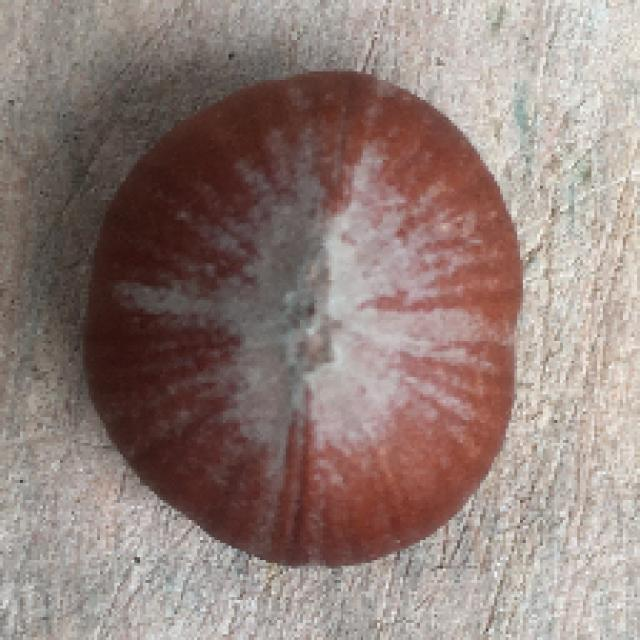qualityHazelnut: (77, 62, 524, 568)
